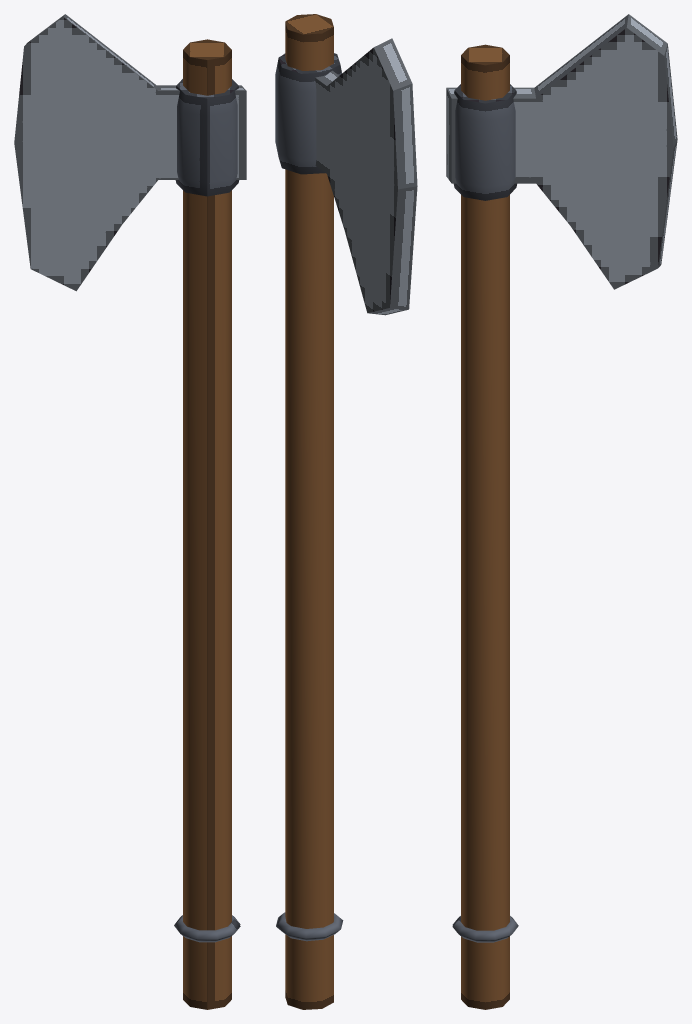
Rendered from bearded_axe.glb.
The picture shows the model from 3 angles, left to right: view 1: azimuth 90°, elevation 25°; view 2: azimuth 210°, elevation 25°; view 3: azimuth 270°, elevation 25°; orthographic projection. The views are drawn at different scales.
Visible parts, largest first — view 1: bearded_axe; view 2: bearded_axe; view 3: bearded_axe.
Boxes of the visible parts, x1,y1,x2,y2 form: bearded_axe: [14, 14, 246, 1009]; bearded_axe: [275, 14, 417, 1009]; bearded_axe: [446, 14, 677, 1009].
Bounding box in the file's own units: 0.042 × 0.665 × 0.142.
Materials: 1 (1 with a texture image).
